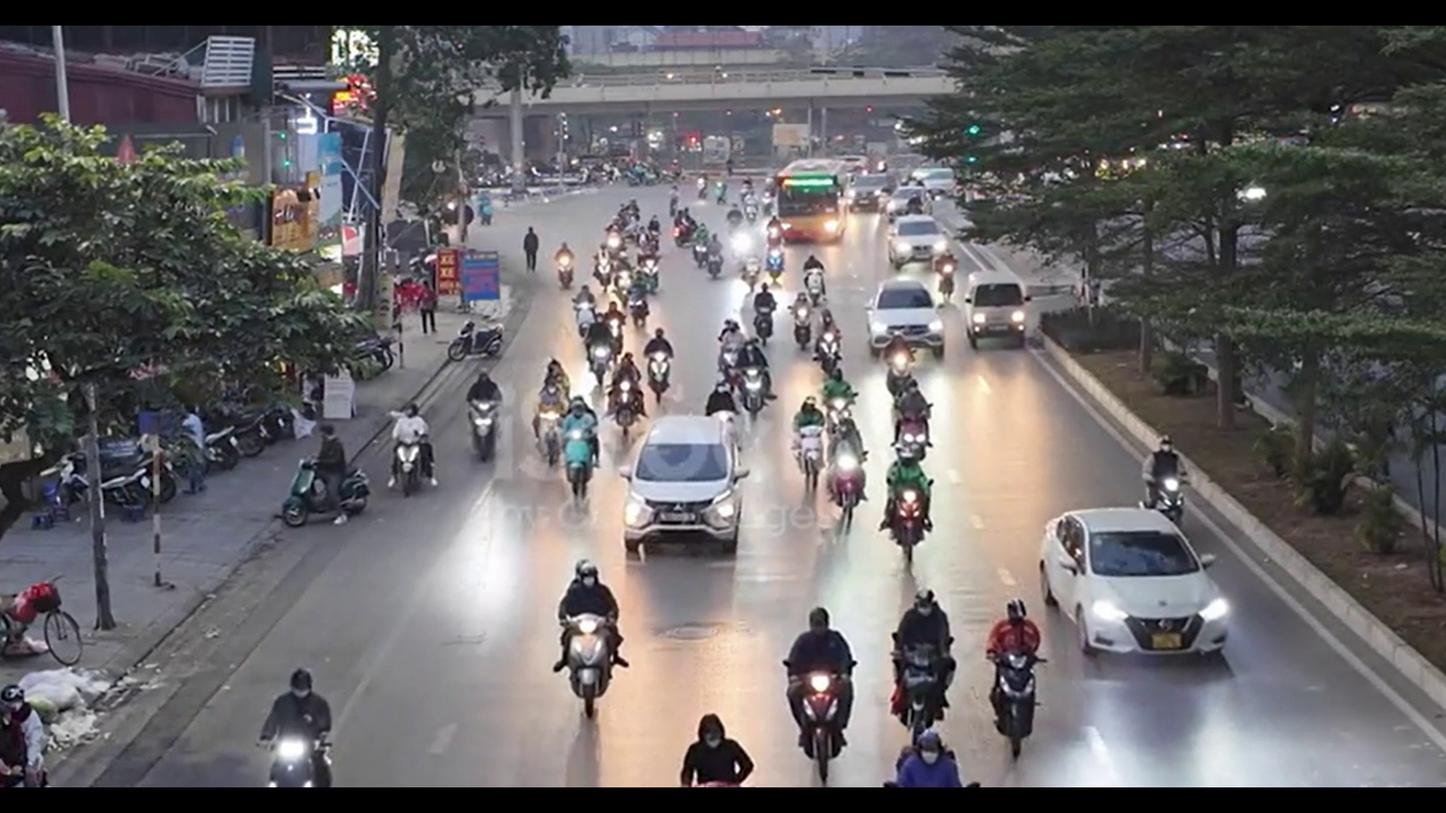bus: (774, 164, 849, 248)
car: (1039, 505, 1233, 657), (625, 413, 746, 545), (865, 280, 940, 359), (962, 275, 1034, 350), (888, 215, 942, 265)
motorcycle: (0, 579, 84, 668), (276, 454, 370, 530)
